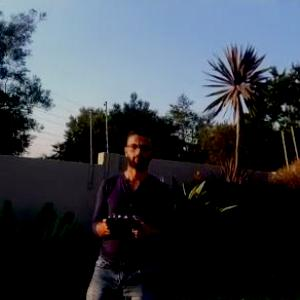follow: (79, 120, 175, 299)
